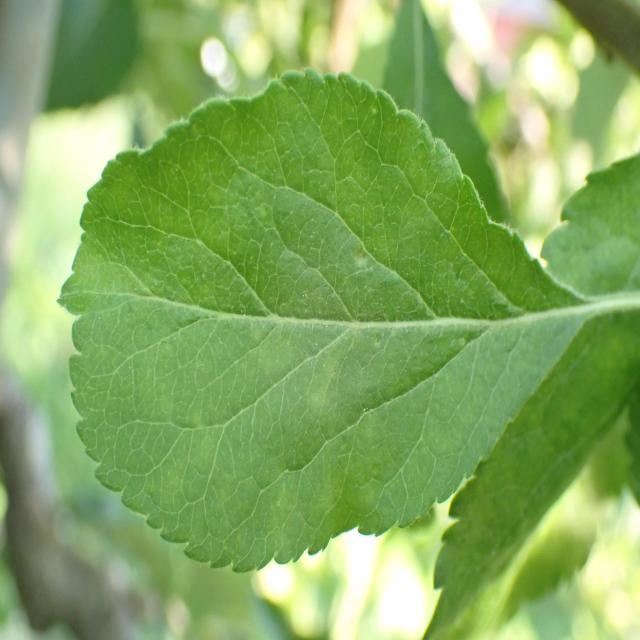scab: (59, 233, 574, 528)
